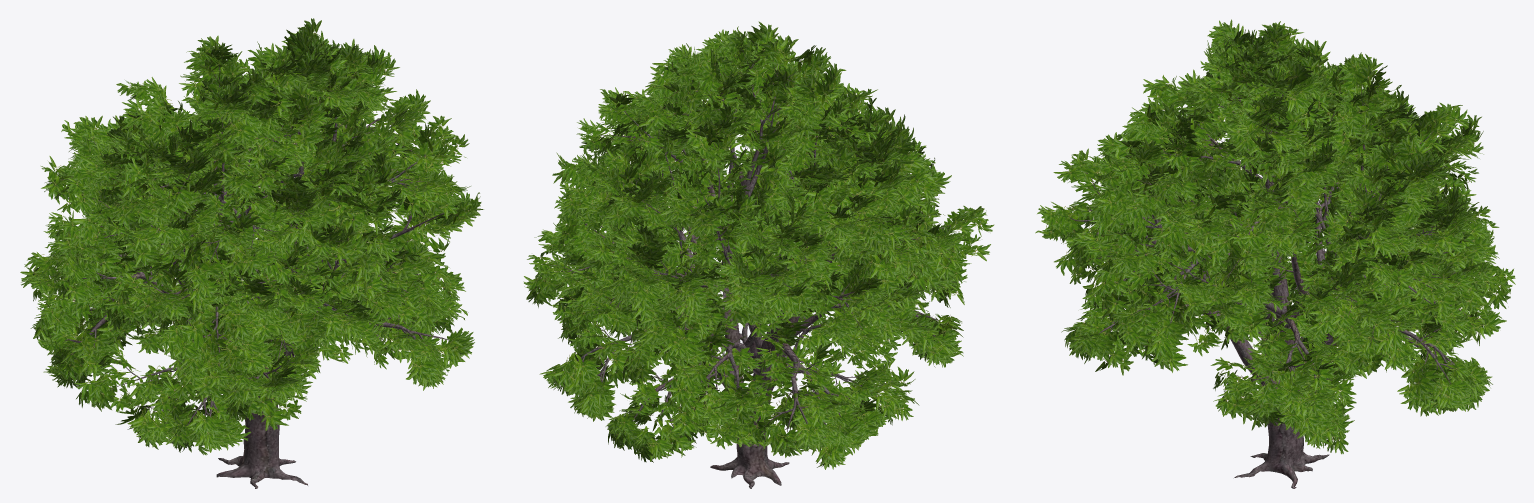
The model's file is tree.glb.
3 views of the same model, side by side, from view 1: azimuth 30°, elevation 25°; view 2: azimuth 150°, elevation 25°; view 3: azimuth 270°, elevation 25° (orthographic). The views are drawn at different scales.
Visible parts, largest first — view 1: leaves, tree; view 2: leaves, tree; view 3: leaves, tree.
Boxes of the visible parts, x1,y1,x2,y2 form: leaves: [20, 18, 483, 455]; tree: [46, 64, 449, 488]; leaves: [523, 21, 994, 469]; tree: [550, 52, 963, 488]; leaves: [1035, 19, 1515, 454]; tree: [1069, 41, 1493, 488].
Size of the model in its own units: 669 by 686 by 676.
Materials: 2 (2 with a texture image).
